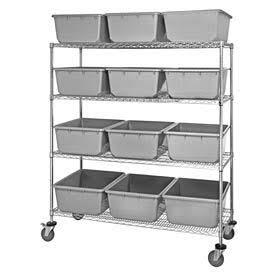Carts: (39, 40, 237, 267)
